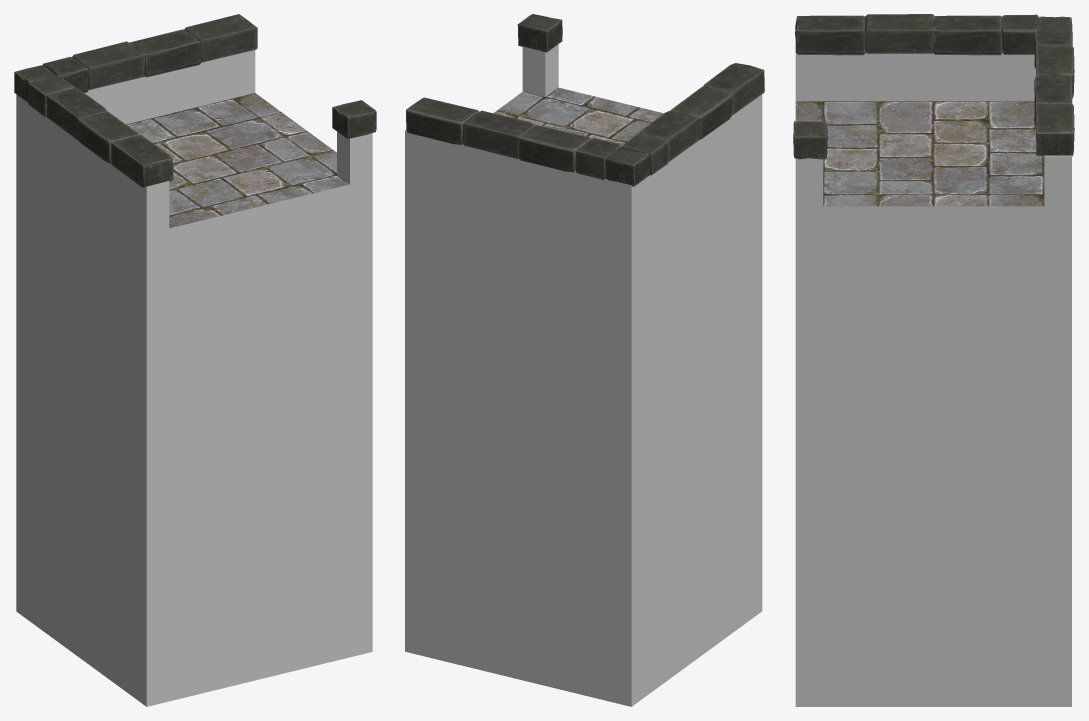
3 views of the same model, side by side, from view 1: azimuth 30°, elevation 25°; view 2: azimuth 150°, elevation 25°; view 3: azimuth 270°, elevation 25° (orthographic). The views are drawn at different scales.
Parts seen in each view (by area): view 1: SM_Dowdun_Walkway_5x5x10_02_LOD0; view 2: SM_Dowdun_Walkway_5x5x10_02_LOD0; view 3: SM_Dowdun_Walkway_5x5x10_02_LOD0.
Boxes of the visible parts, <box> form: SM_Dowdun_Walkway_5x5x10_02_LOD0: <box>14,14,376,706</box>; SM_Dowdun_Walkway_5x5x10_02_LOD0: <box>405,14,764,706</box>; SM_Dowdun_Walkway_5x5x10_02_LOD0: <box>793,14,1074,706</box>.
Size of the model in its own units: 5.2 by 11.47 by 5.09.
3 materials, 2 textured.
